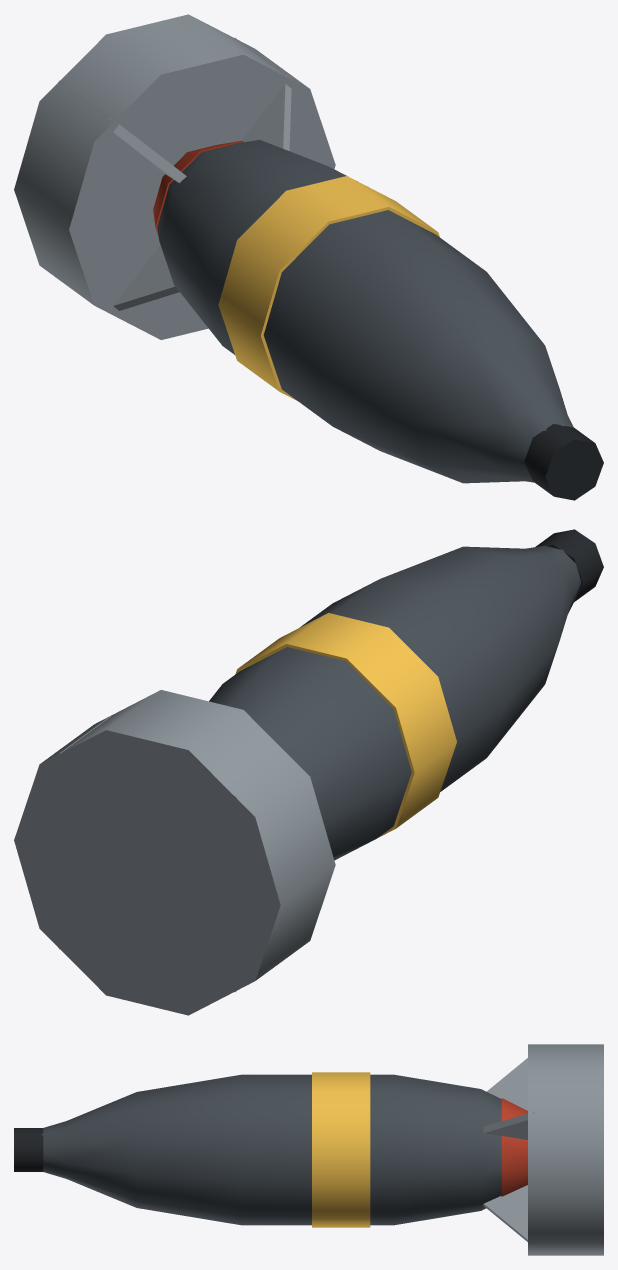
File: Cutscene_Bomb.fbx
3 views of the same model, one above another, from view 1: azimuth 30°, elevation 25°; view 2: azimuth 150°, elevation 25°; view 3: azimuth 270°, elevation 25° (orthographic). The views are drawn at different scales.
Parts seen in each view (by area): view 1: Decor; view 2: Decor; view 3: Decor.
Boxes of the visible parts, x1,y1,x2,y2 form: Decor: [14, 14, 603, 500]; Decor: [14, 529, 603, 1015]; Decor: [14, 1044, 603, 1255].
Size of the model in its own units: 3.64 by 3.46 by 10.1.
